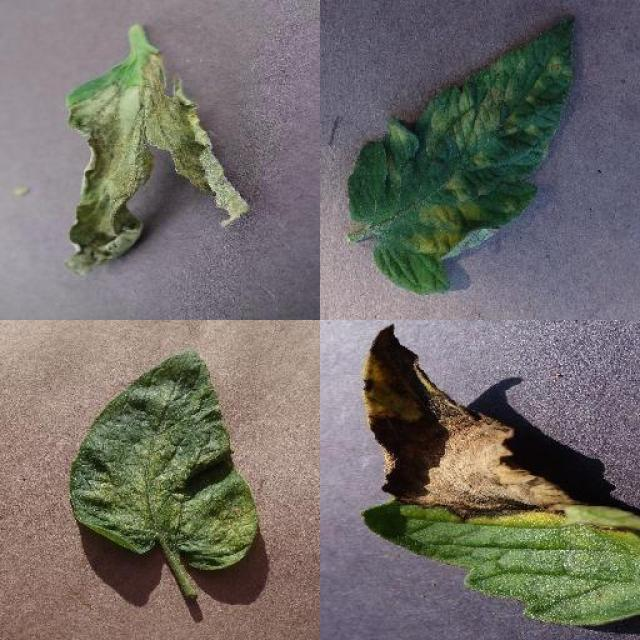Late Blight: (356, 322, 640, 628), (65, 58, 251, 278)
